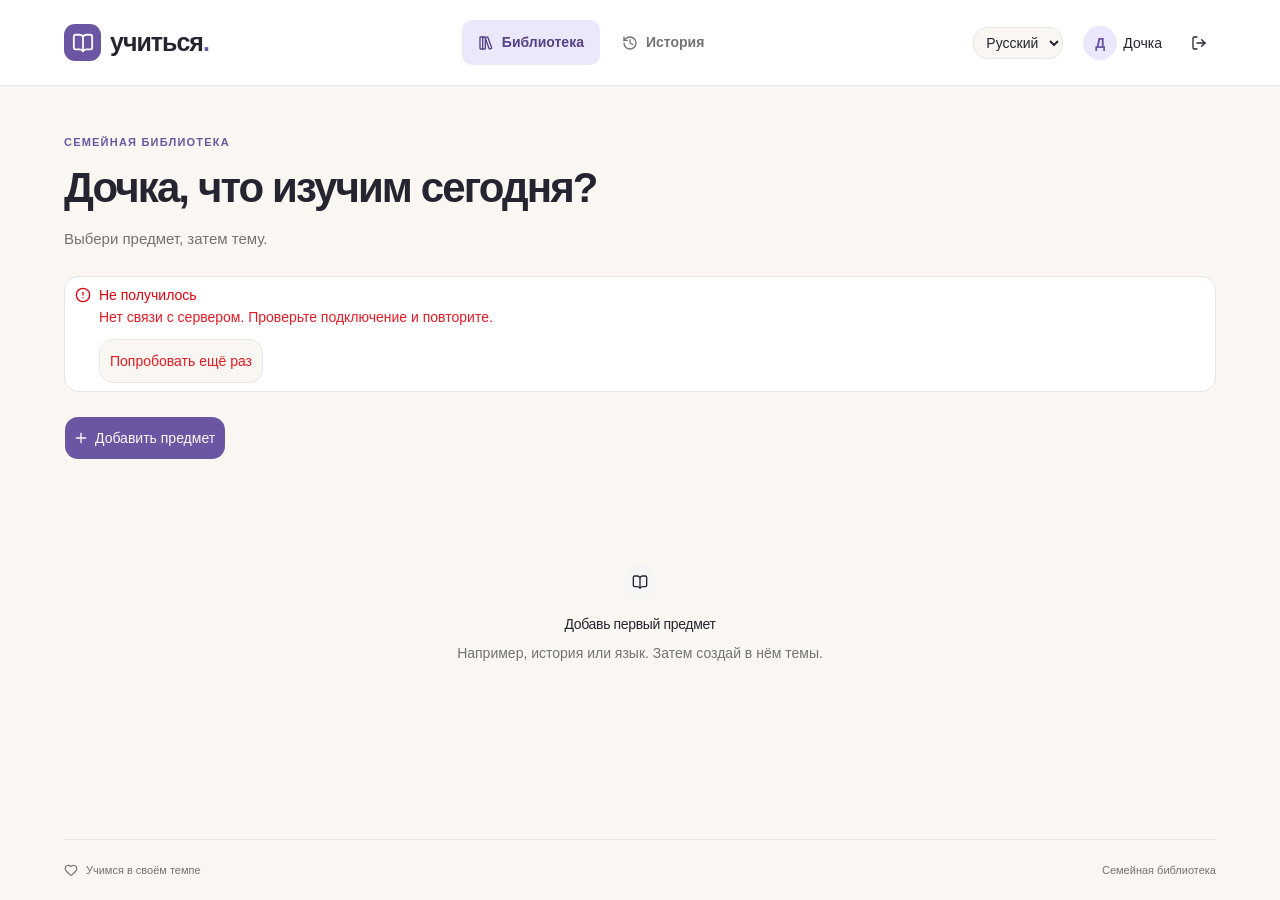
it: wrong current password shows an error without signing out
Click the button with aria-label "Профиль". click: (1123, 42)
box: top-left (1072, 26), bottom-right (1173, 58)
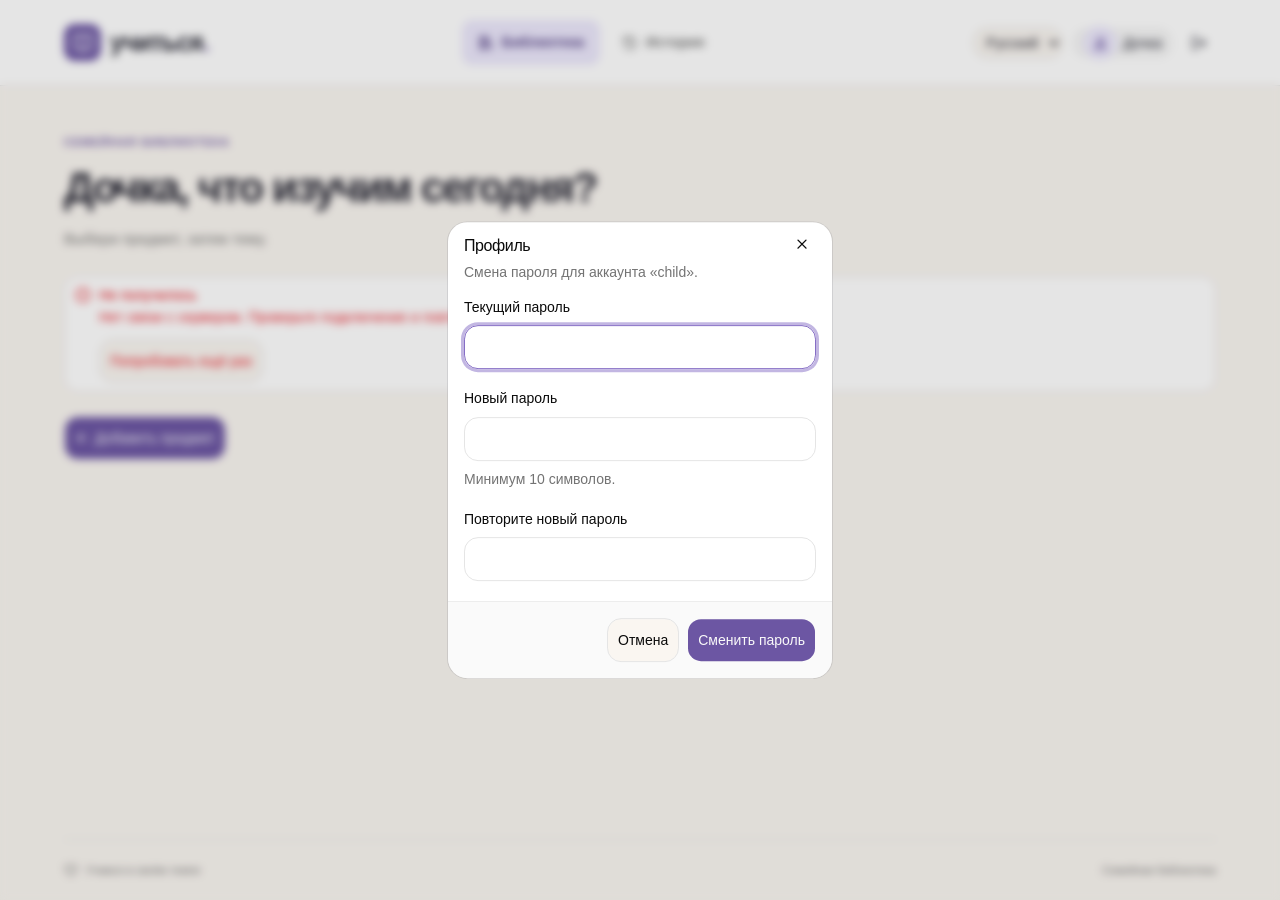
Type "wrong-password" into the password field labelled "Текущий пароль". click: (640, 347)
box: top-left (464, 325), bottom-right (816, 369)
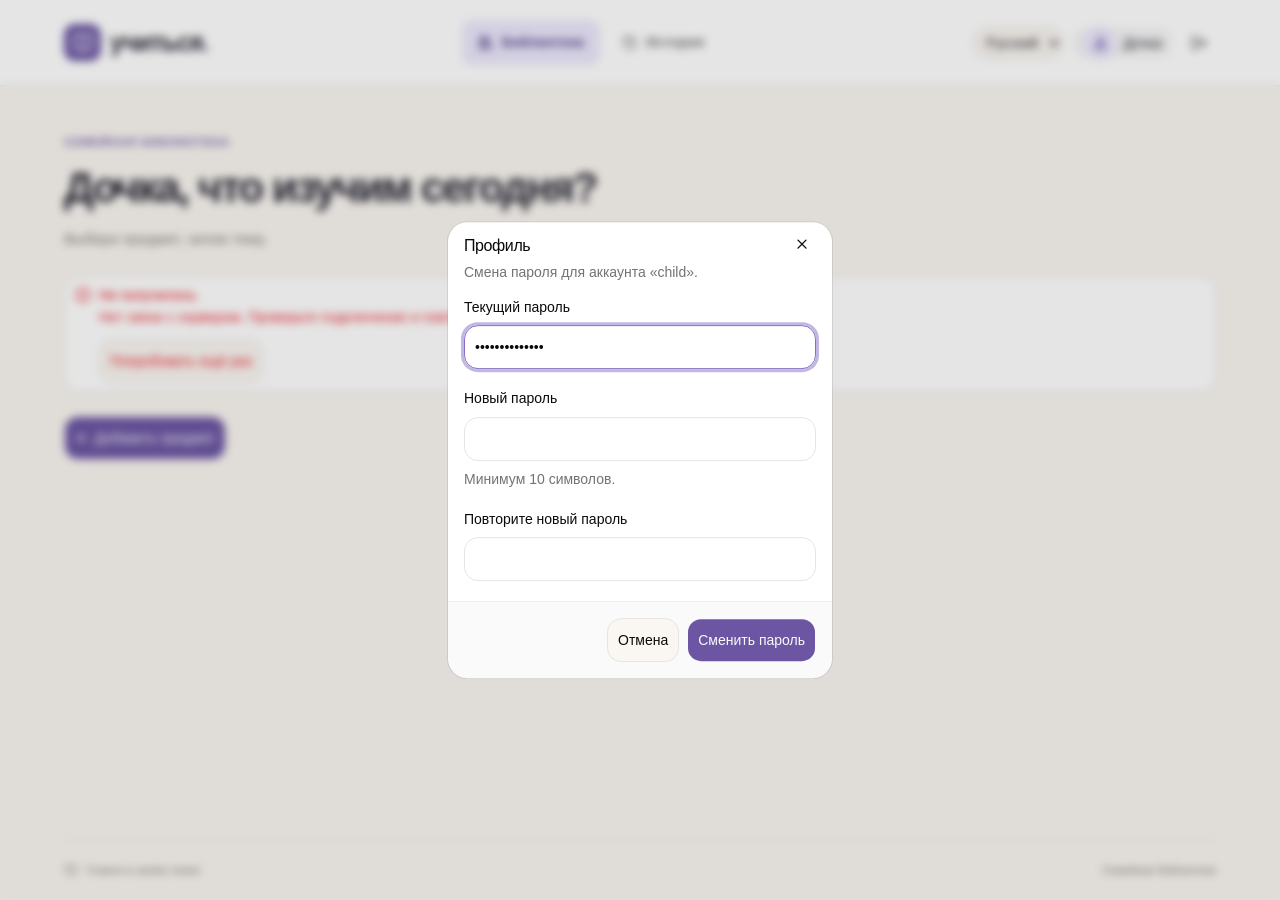
Type "new-family-password" into the password field labelled "Новый пароль". click: (640, 439)
box: top-left (464, 417), bottom-right (816, 461)
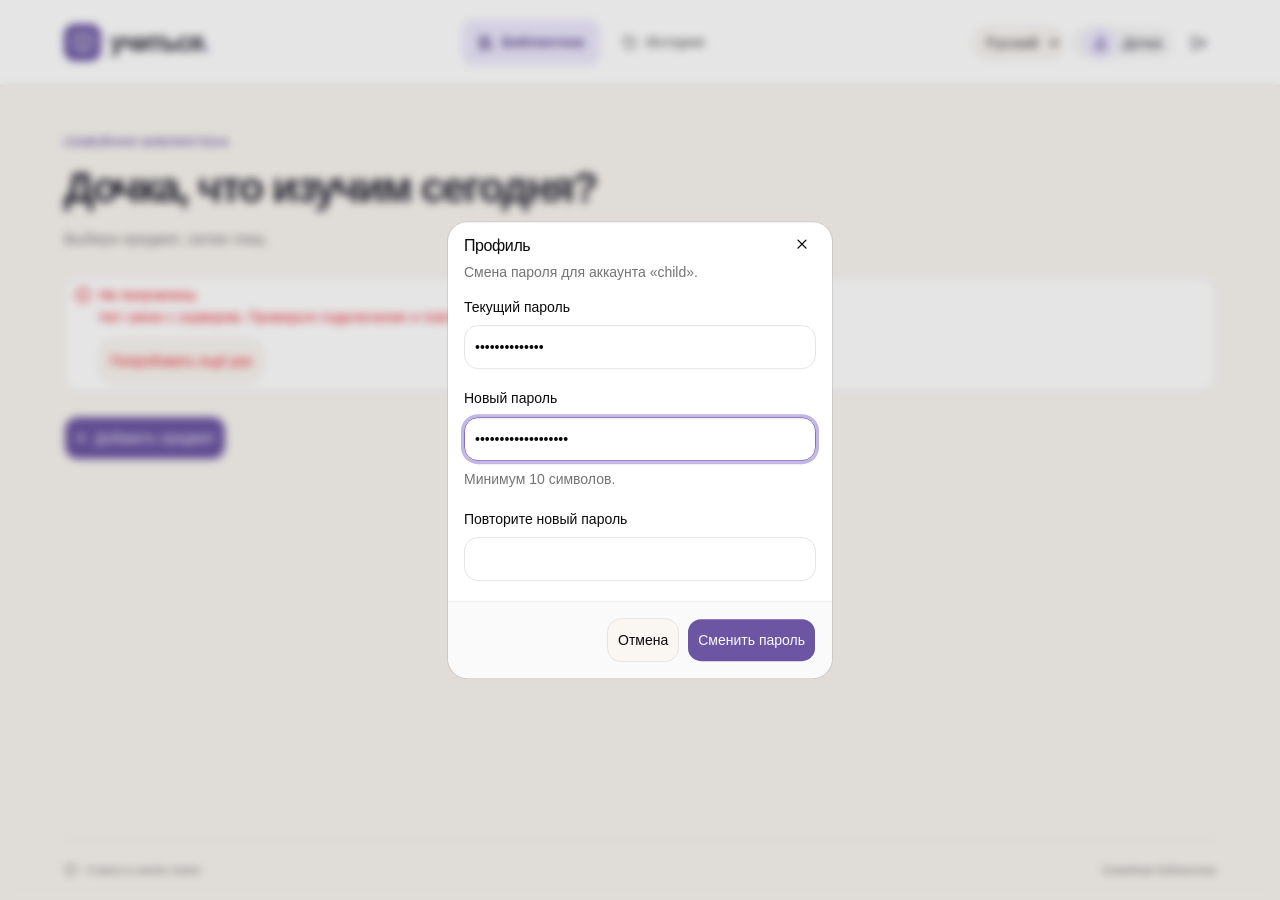
Type "new-family-password" into the password field labelled "Повторите новый пароль". click: (640, 559)
box: top-left (464, 537), bottom-right (816, 581)
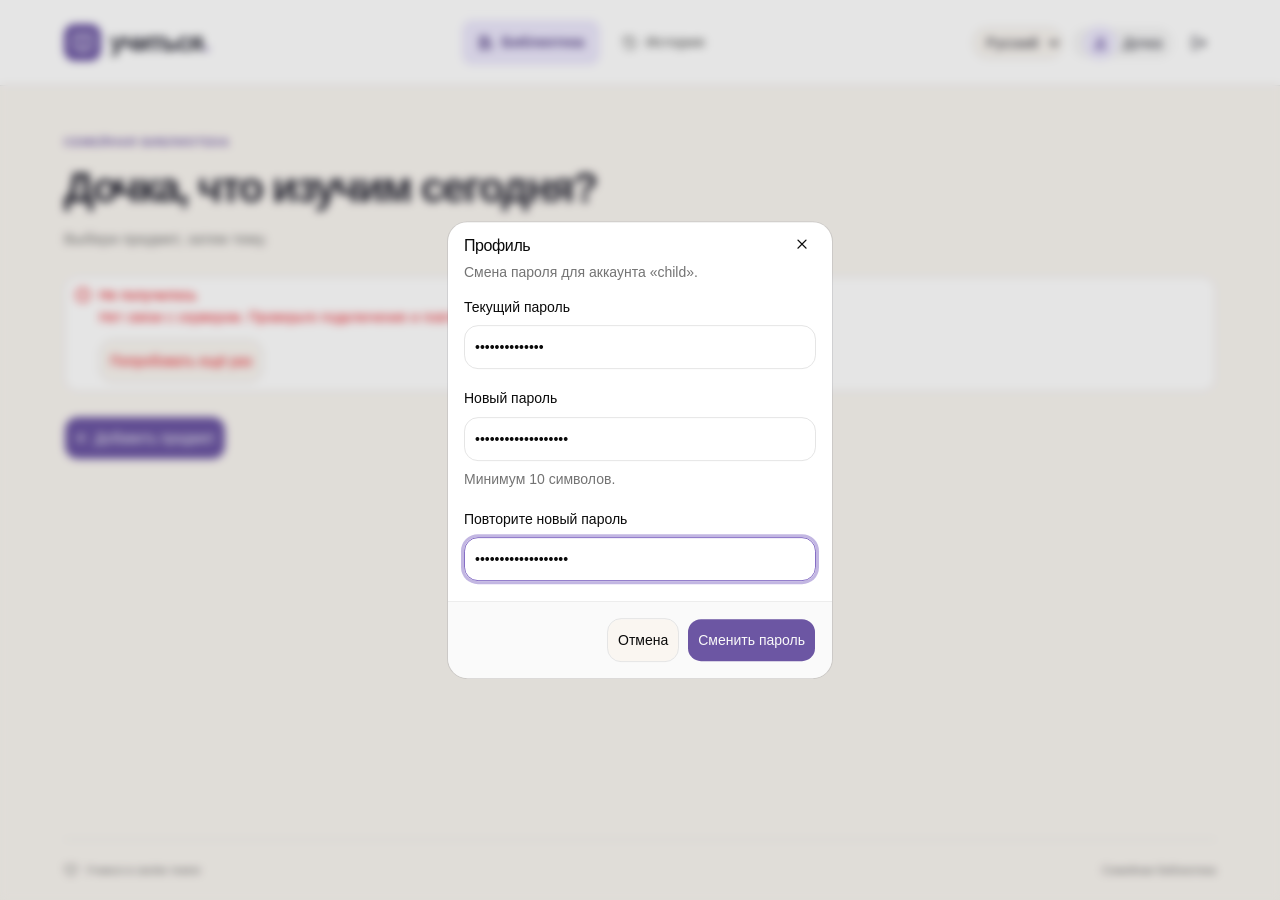
Click the button "Сменить пароль". click: (752, 640)
box: top-left (687, 618), bottom-right (816, 662)
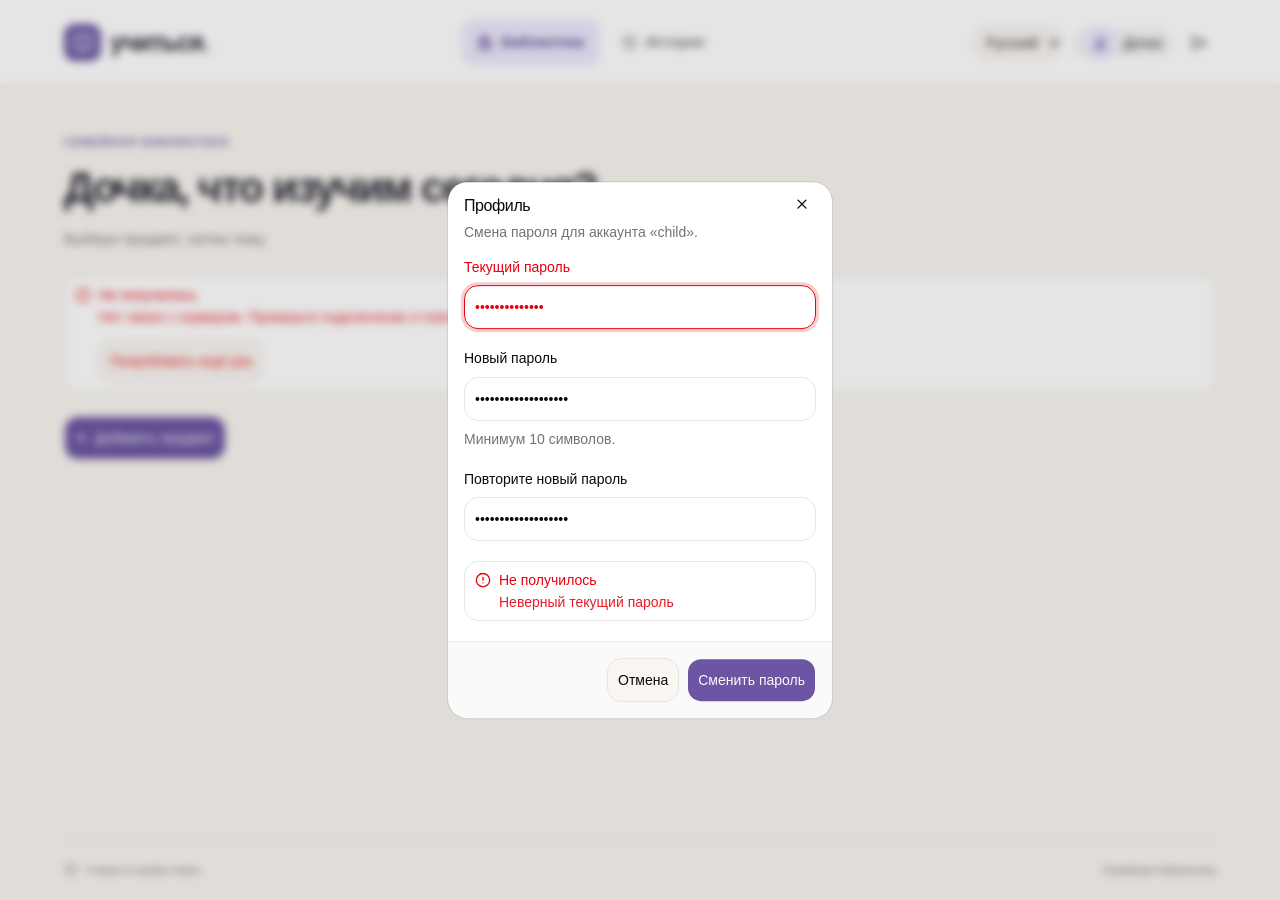
Now the text "Неверный текущий пароль" is shown, box top-left (499, 594), bottom-right (674, 610)
